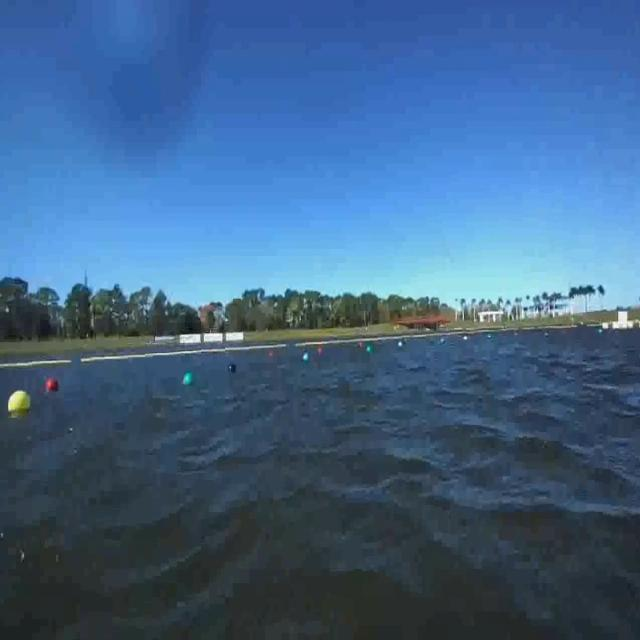green-buoy: (184, 372, 192, 386)
red-buoy: (46, 379, 58, 393)
yellow-buoy: (8, 392, 30, 414)
